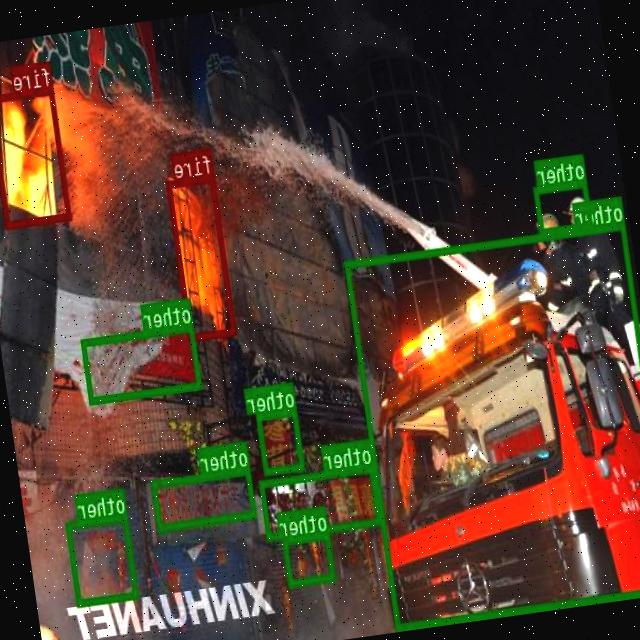fire: (167, 174, 237, 340), (0, 85, 73, 226)
